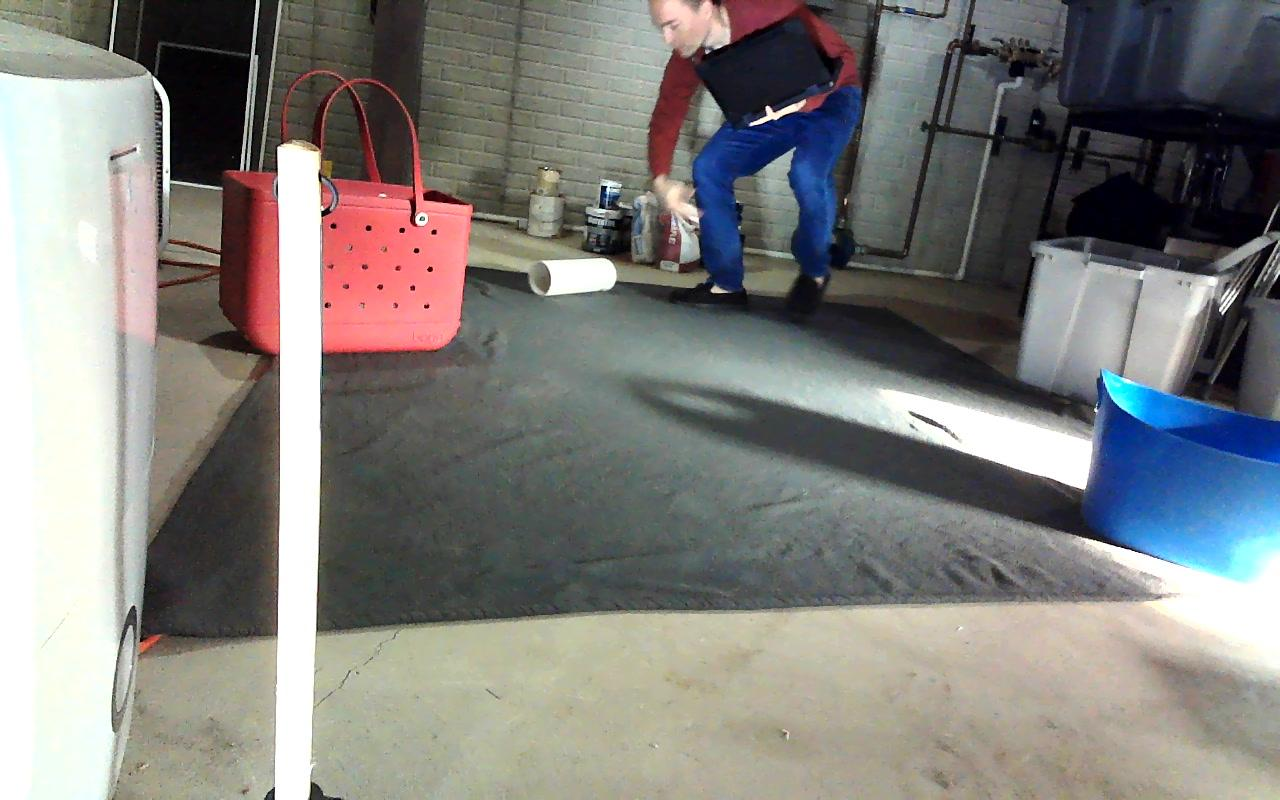coral: (529, 258, 616, 295)
